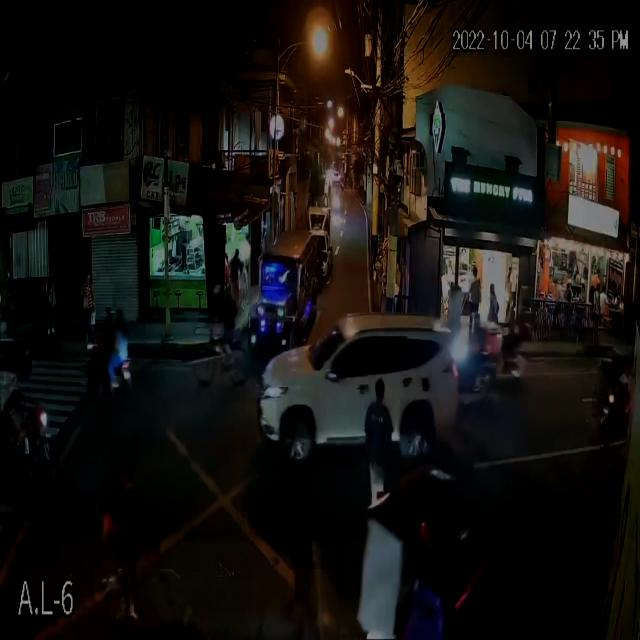Full-Faced: (110, 305, 124, 330), (102, 304, 113, 322)
